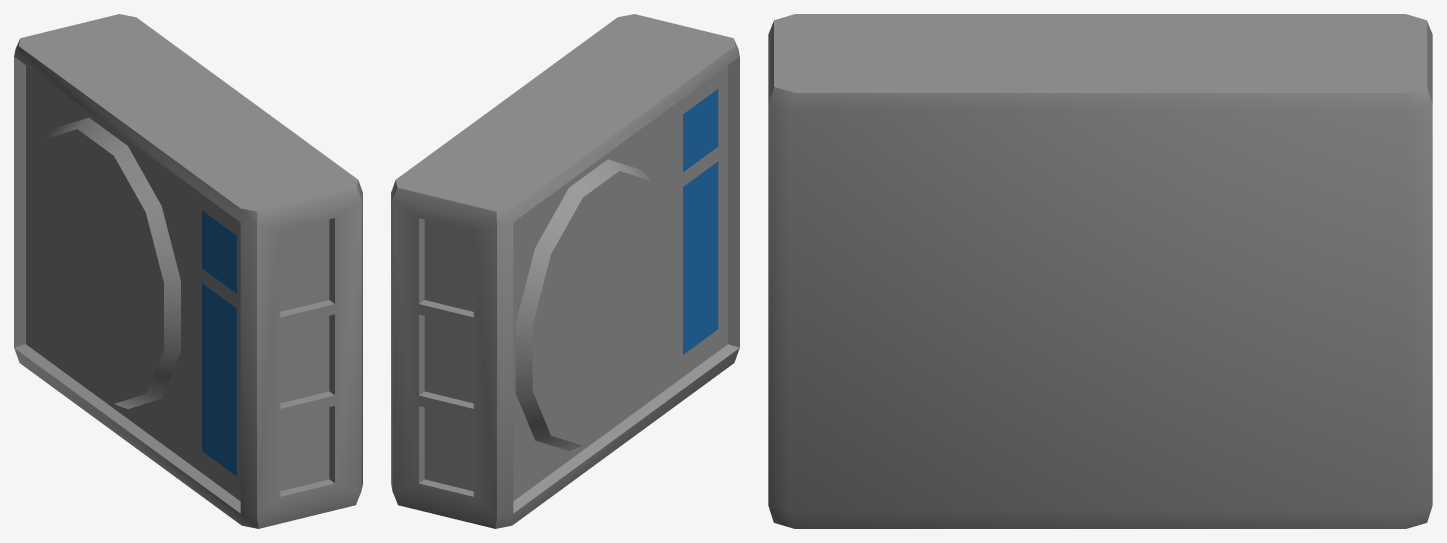
The model's file is vent_2.fbx.
The picture shows the model from 3 angles, left to right: view 1: azimuth 30°, elevation 25°; view 2: azimuth 150°, elevation 25°; view 3: azimuth 270°, elevation 25°; orthographic projection. The views are drawn at different scales.
Visible parts, largest first — view 1: vent_2; view 2: vent_2; view 3: vent_2.
Boxes of the visible parts, bbox=[...] form: vent_2: bbox=[14, 14, 362, 528]; vent_2: bbox=[391, 14, 739, 528]; vent_2: bbox=[768, 14, 1432, 528].
Bounding box in the file's own units: 0.2479 × 0.5992 × 0.8264.
